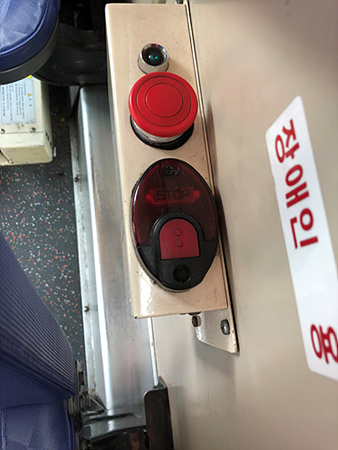bell: (130, 158, 220, 293)
